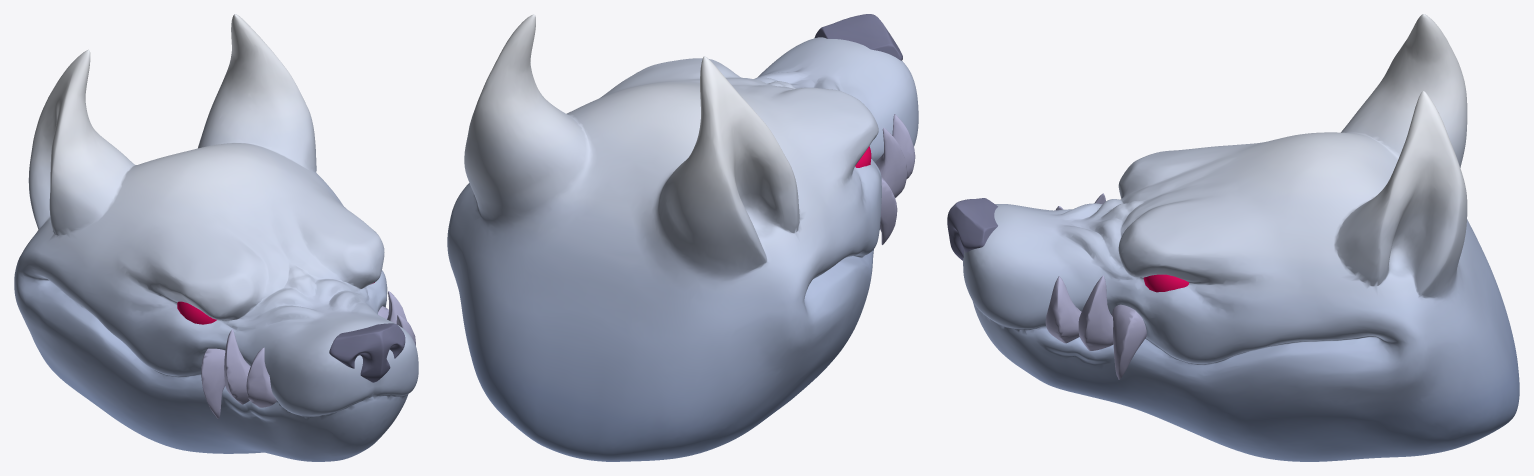
The model's file is jormunfenrir_Head.fbx.
The picture shows the model from 3 angles, left to right: view 1: azimuth 30°, elevation 25°; view 2: azimuth 150°, elevation 25°; view 3: azimuth 270°, elevation 25°; orthographic projection. The views are drawn at different scales.
Visible parts, largest first — view 1: Jormunfenrir_Head; view 2: Jormunfenrir_Head; view 3: Jormunfenrir_Head.
Part boxes in pixels (box(x1,y1,x2,y2)): Jormunfenrir_Head: box(14, 14, 418, 461); Jormunfenrir_Head: box(447, 14, 918, 461); Jormunfenrir_Head: box(947, 14, 1519, 461).
Size of the model in its own units: 3.95 by 4.43 by 5.97.
Materials: 1 (1 with a texture image).
